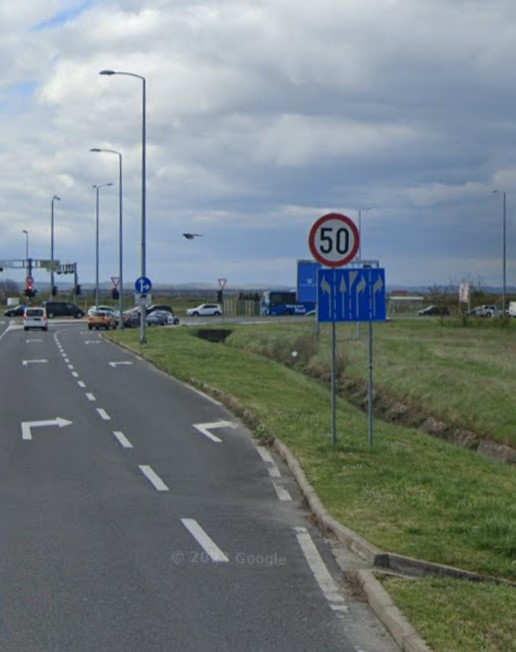Ograničenje brzine 50: (308, 213, 360, 267)
